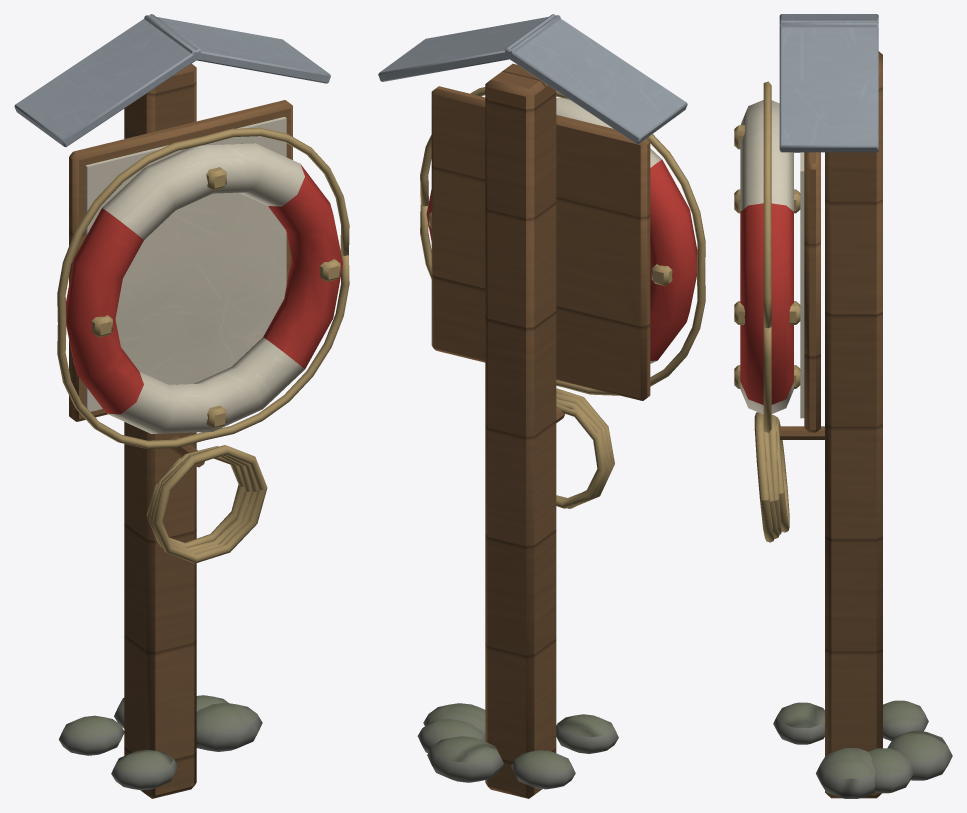
Rendered from life_ring_post.glb.
3 renders of one model, left to right at view 1: azimuth 30°, elevation 25°; view 2: azimuth 150°, elevation 25°; view 3: azimuth 270°, elevation 25°, orthographic. The views are drawn at different scales.
Visible parts, largest first — view 1: life_ring_post; view 2: life_ring_post; view 3: life_ring_post.
Boxes of the visible parts, <box> form: life_ring_post: <box>14,14,349,798</box>; life_ring_post: <box>378,14,705,798</box>; life_ring_post: <box>734,14,952,798</box>.
Size of the model in its own units: 0.8184 by 2.05 by 0.529.
Materials: 9 (9 with a texture image).
